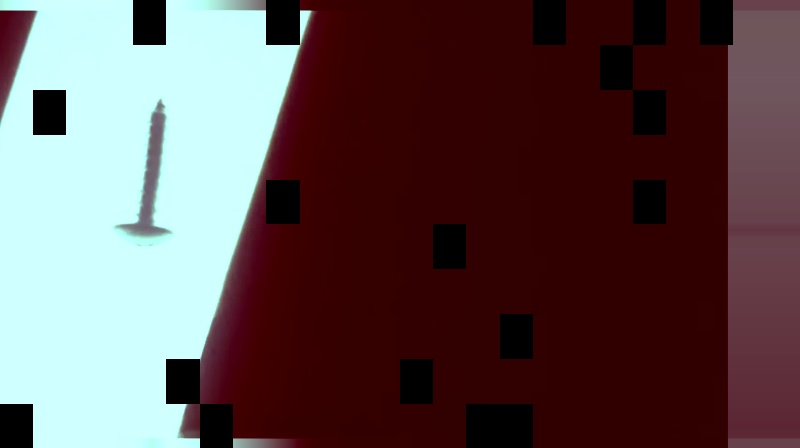S003: (109, 97, 178, 250)
